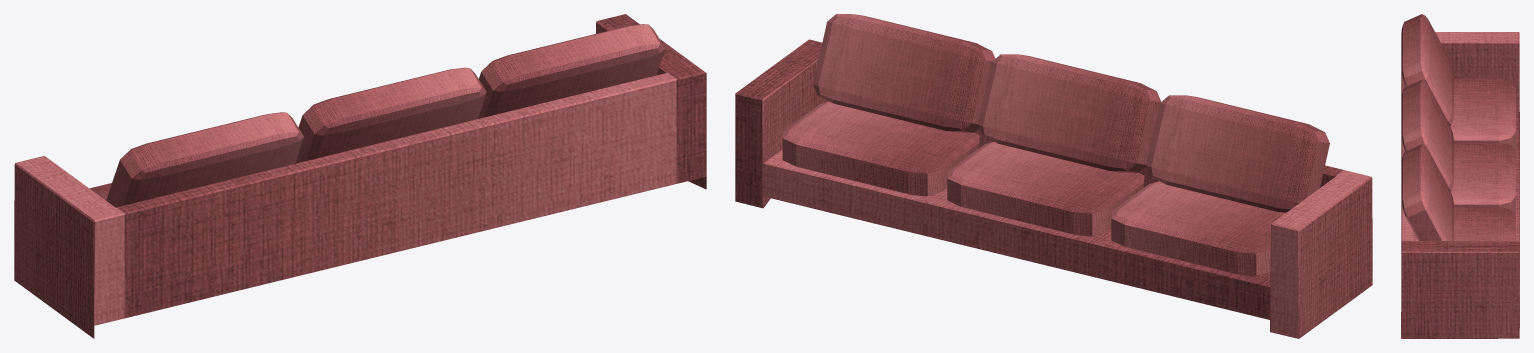
The model's file is SOFA_05.fbx.
3 renders of one model, left to right at view 1: azimuth 30°, elevation 25°; view 2: azimuth 150°, elevation 25°; view 3: azimuth 270°, elevation 25°, orthographic. The views are drawn at different scales.
Visible parts, largest first — view 1: SOFA_05; view 2: SOFA_05; view 3: SOFA_05.
Boxes of the visible parts, x1,y1,x2,y2 form: SOFA_05: (14, 14, 706, 338); SOFA_05: (735, 14, 1372, 338); SOFA_05: (1401, 14, 1519, 338).
Bounding box in the file's own units: 343 × 90.64 × 78.07.
